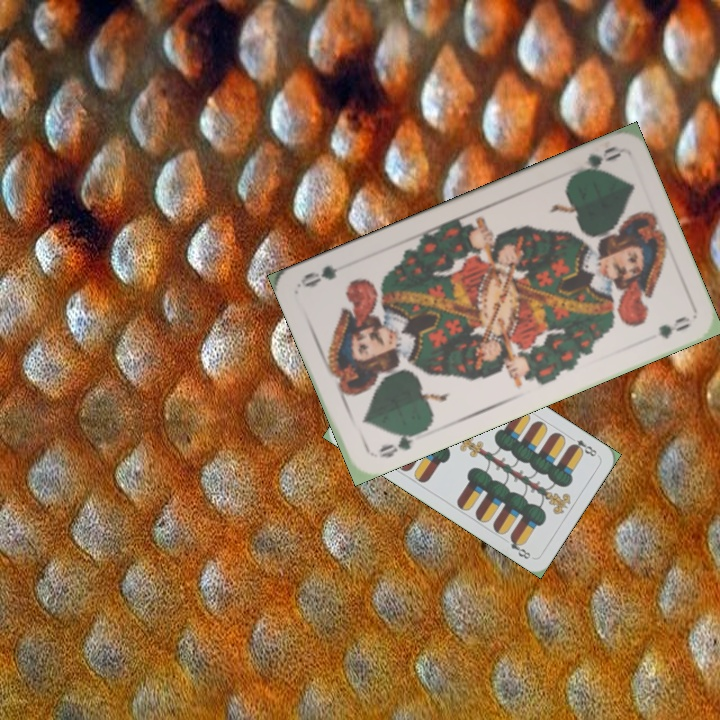E8: (565, 432, 601, 459)
GO: (567, 142, 623, 180), (375, 427, 423, 461)
